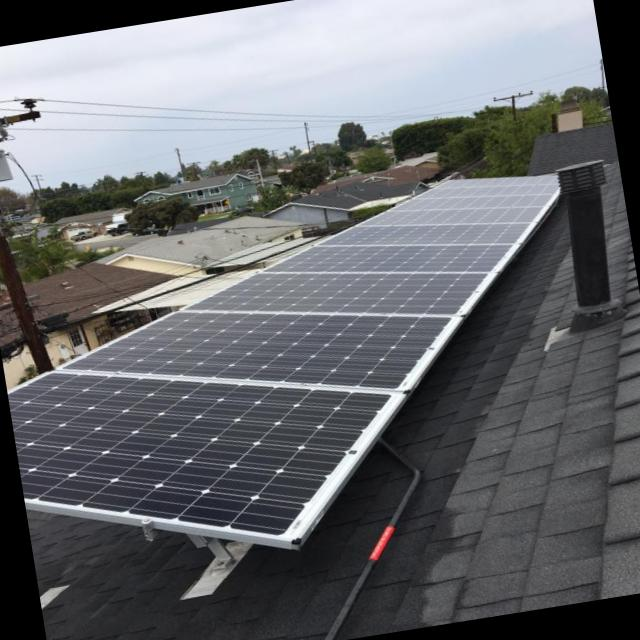no faulty: (27, 212, 546, 540)
